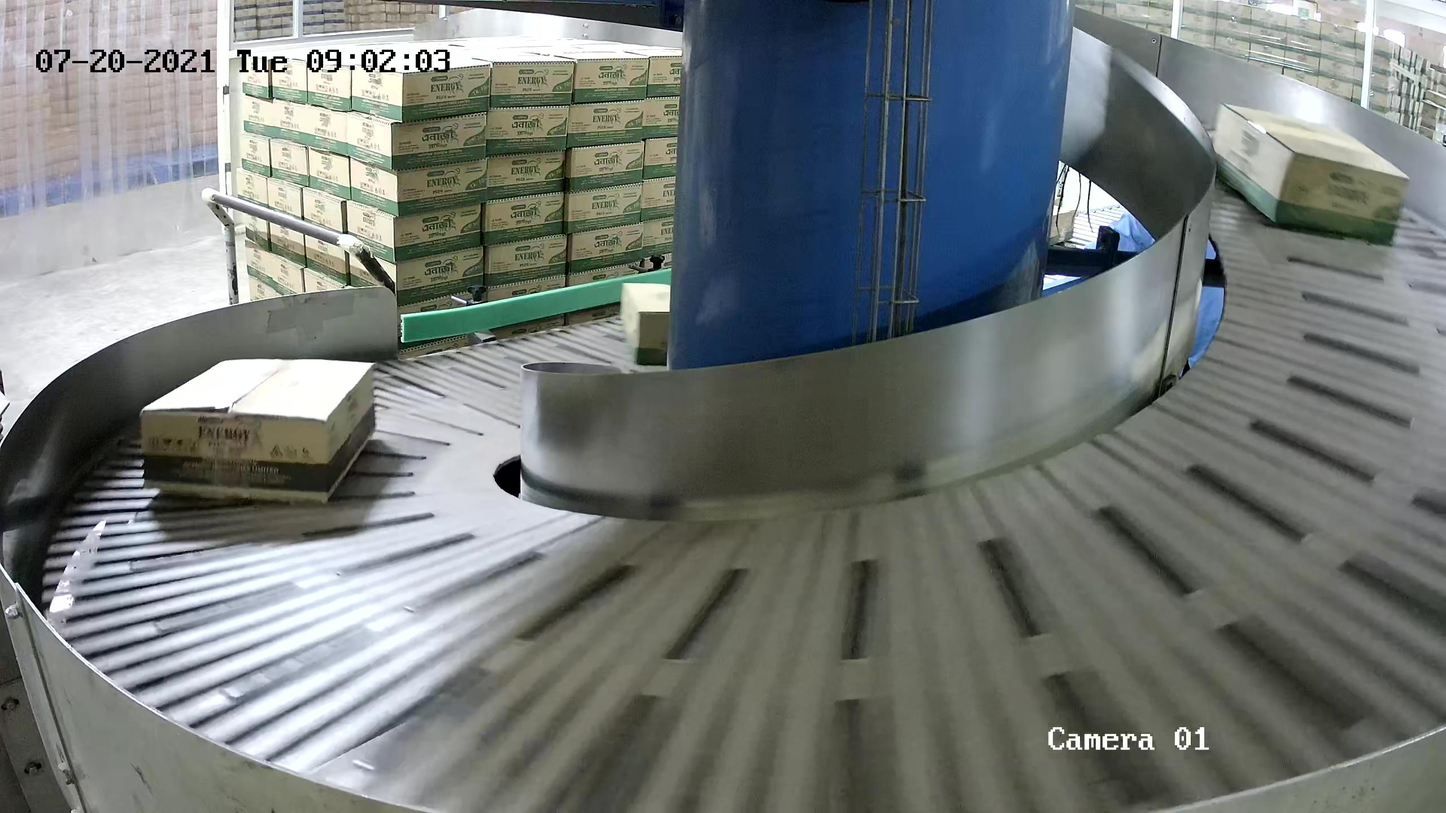Box: (138, 356, 377, 506), (1211, 101, 1412, 246), (619, 280, 671, 366)
